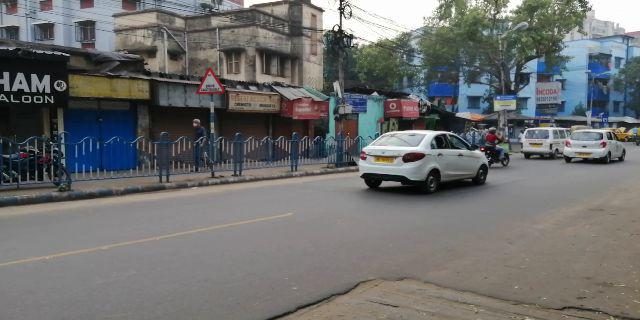Car: (359, 131, 488, 191), (570, 127, 624, 164)
Van: (523, 128, 557, 159)
